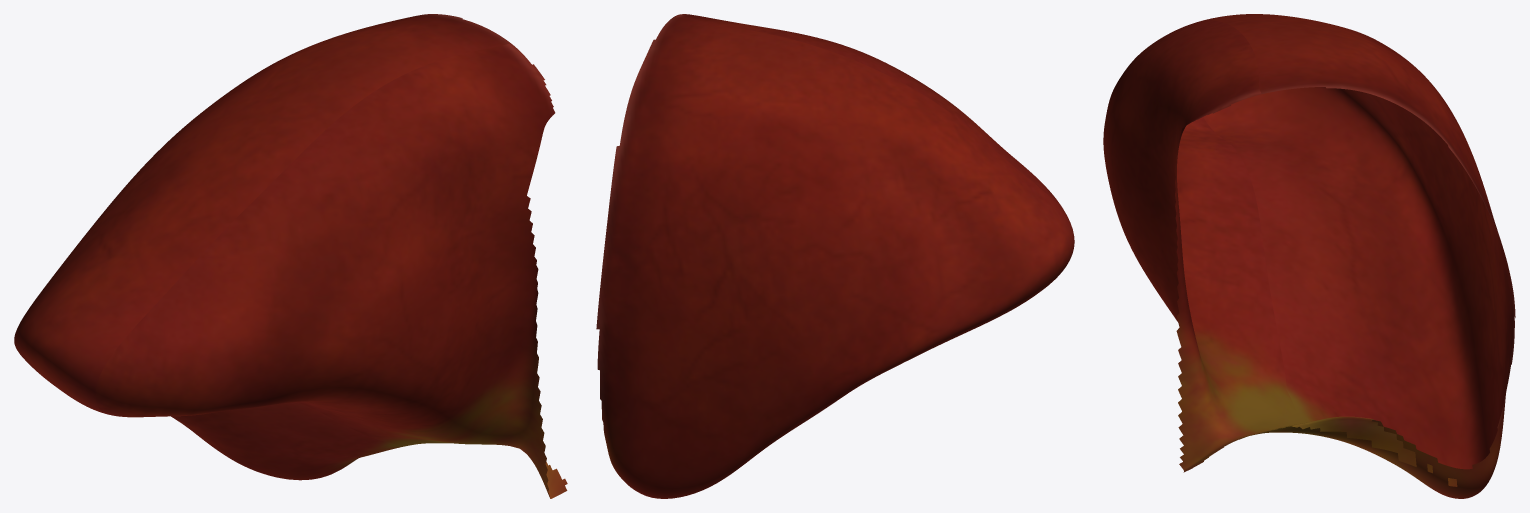
Rendered from Lobulo_Izquierdo.FBX.
3 views of the same model, side by side, from view 1: azimuth 30°, elevation 25°; view 2: azimuth 150°, elevation 25°; view 3: azimuth 270°, elevation 25° (orthographic). The views are drawn at different scales.
Parts seen in each view (by area): view 1: Fetge; view 2: Fetge; view 3: Fetge.
Part boxes in pixels (box(x1,y1,x2,y2)): Fetge: box(14, 14, 567, 498); Fetge: box(596, 14, 1074, 498); Fetge: box(1103, 14, 1515, 498).
Bounding box in the file's own units: 42.1 × 40.61 × 34.1.
Materials: 1 (1 with a texture image).
